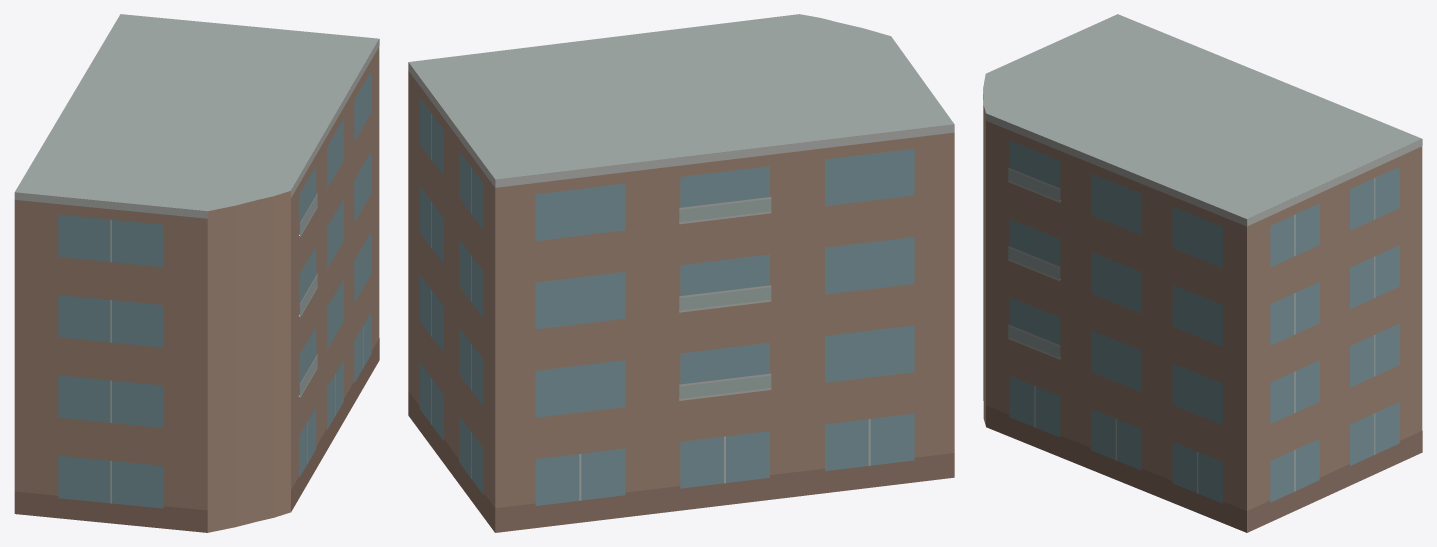
File: survey-upis-32882889.glb
The picture shows the model from 3 angles, left to right: view 1: azimuth 30°, elevation 25°; view 2: azimuth 150°, elevation 25°; view 3: azimuth 270°, elevation 25°; orthographic projection. The views are drawn at different scales.
Parts seen in each view (by area): view 1: survey-upis-32882889.tmp; view 2: survey-upis-32882889.tmp; view 3: survey-upis-32882889.tmp.
Boxes of the visible parts, x1,y1,x2,y2 form: survey-upis-32882889.tmp: [14, 14, 379, 532]; survey-upis-32882889.tmp: [408, 14, 954, 532]; survey-upis-32882889.tmp: [983, 14, 1422, 532].
Size of the model in its own units: 14.59 by 10.4 by 13.19.
